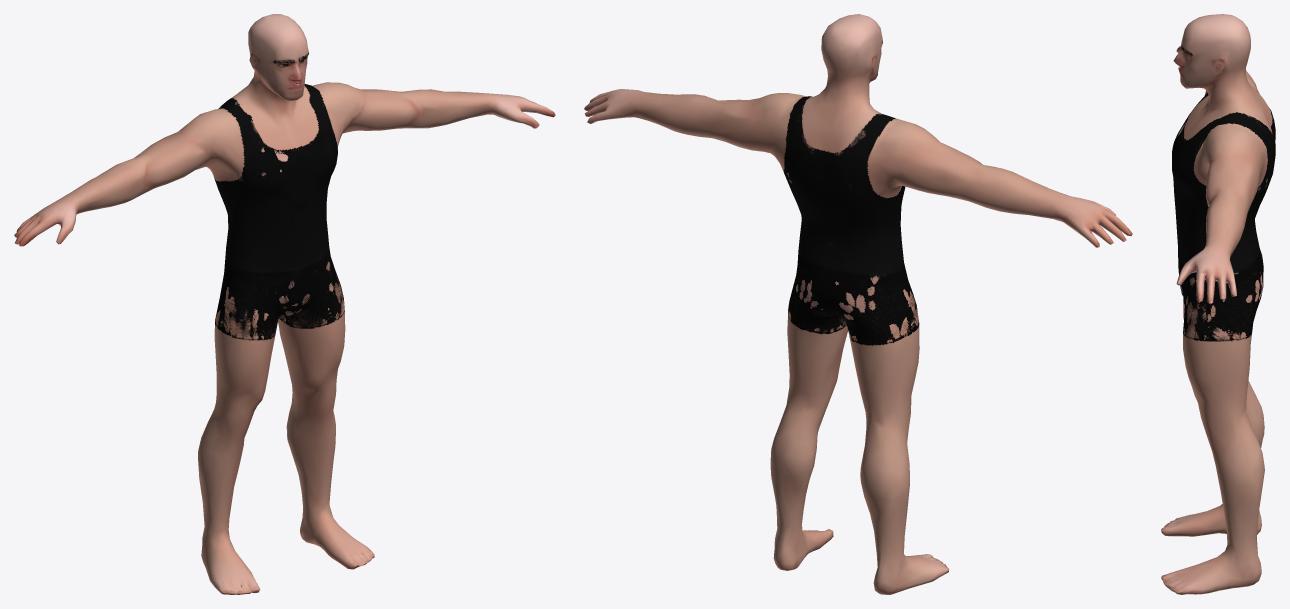
File: 3d_generated_mesh_body_bald_processed.glb
The picture shows the model from 3 angles, left to right: view 1: azimuth 30°, elevation 25°; view 2: azimuth 150°, elevation 25°; view 3: azimuth 270°, elevation 25°; orthographic projection.
Parts seen in each view (by area): view 1: RBX_BODY_body_bald; view 2: RBX_BODY_body_bald; view 3: RBX_BODY_body_bald.
Part boxes in pixels (x1,y1,x2,y2): RBX_BODY_body_bald: [14, 14, 555, 594]; RBX_BODY_body_bald: [584, 14, 1132, 594]; RBX_BODY_body_bald: [1161, 14, 1275, 594].
Size of the model in its own units: 0.9977 by 0.9678 by 0.1853.
Materials: 1 (1 with a texture image).
